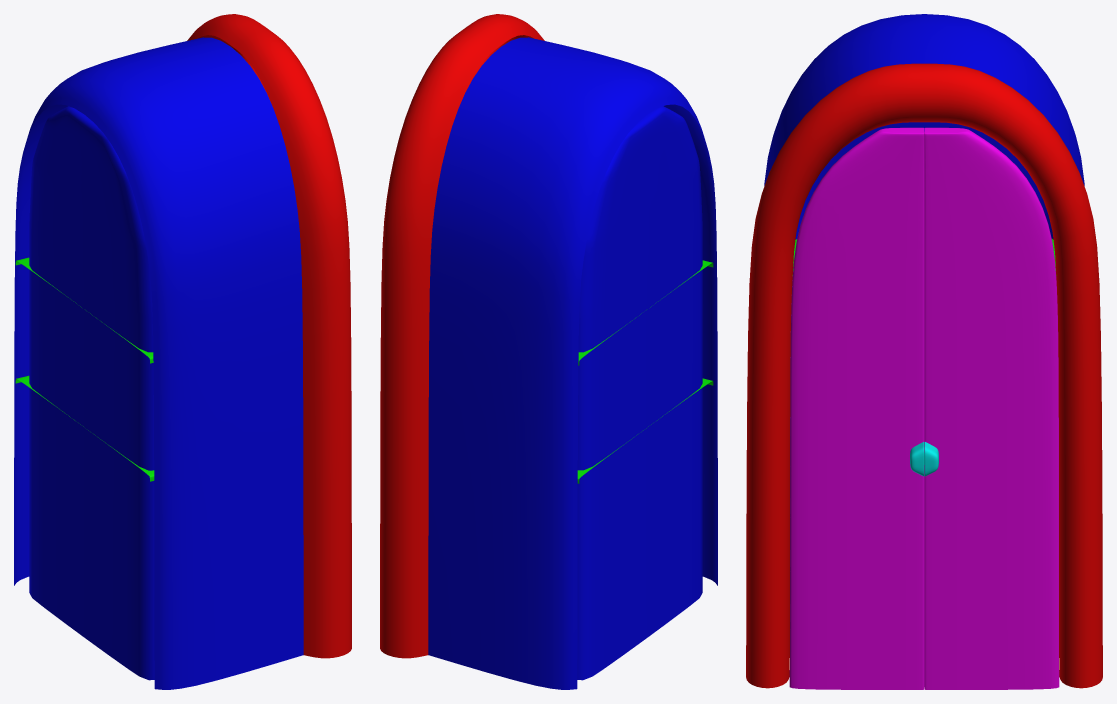
The model's file is Kühlschrank_3_high.fbx.
The picture shows the model from 3 angles, left to right: view 1: azimuth 30°, elevation 25°; view 2: azimuth 150°, elevation 25°; view 3: azimuth 270°, elevation 25°; orthographic projection. The views are drawn at different scales.
Visible parts, largest first — view 1: Aufbewahrungsschrank_3_high; view 2: Aufbewahrungsschrank_3_high; view 3: Kühlschrank_3_high, Aufbewahrungsschrank_3_high.
Boxes of the visible parts, x1=… form: Aufbewahrungsschrank_3_high: x1=14, y1=14, x2=351, y2=689; Aufbewahrungsschrank_3_high: x1=380, y1=14, x2=717, y2=689; Kühlschrank_3_high: x1=789, y1=127, x2=1059, y2=689; Aufbewahrungsschrank_3_high: x1=746, y1=14, x2=1102, y2=688.
Bounding box in the file's own units: 0.7128 × 1.85 × 0.9793.
